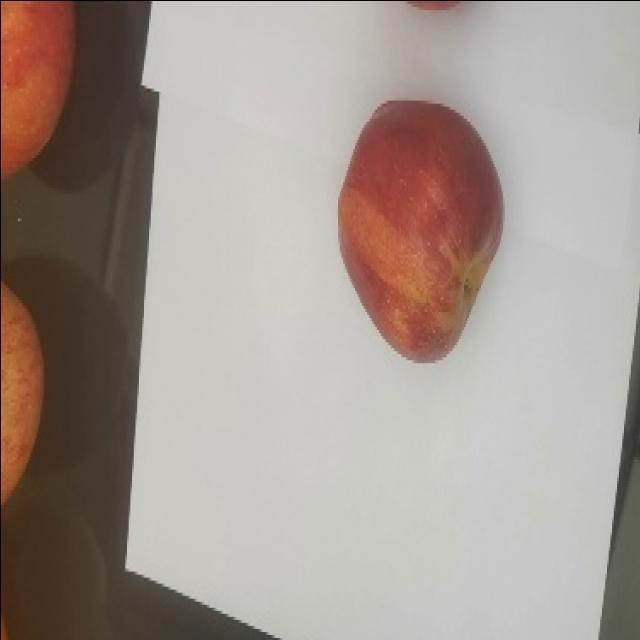Apple: (336, 98, 504, 363), (0, 0, 77, 179), (0, 280, 45, 507)
